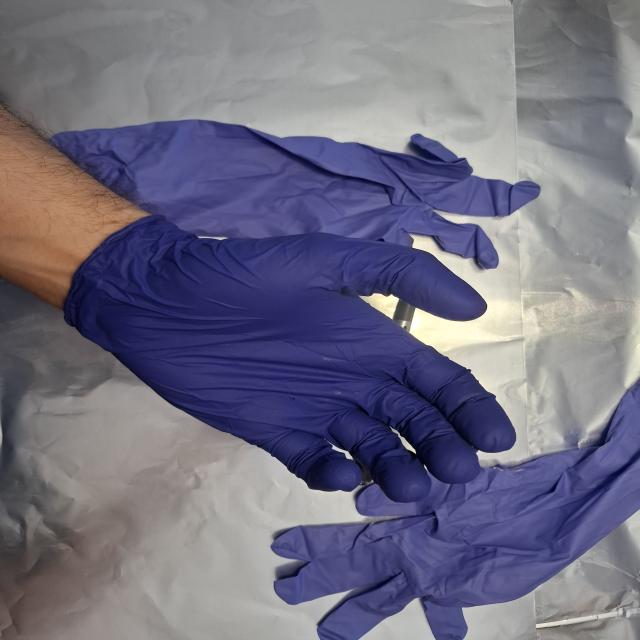glove_on: (55, 213, 522, 505)
